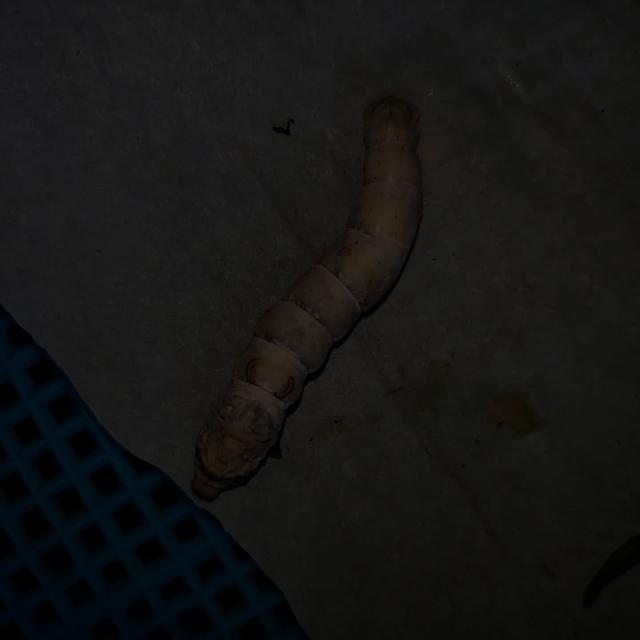Grasserie: (162, 74, 456, 516)
